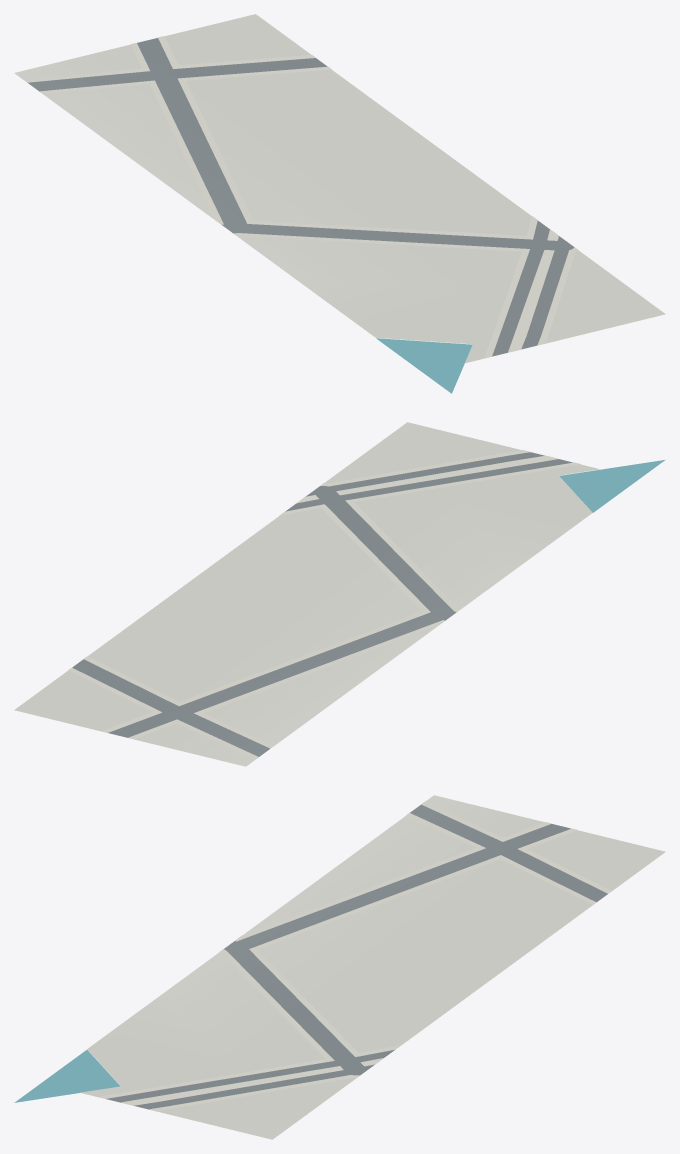
The picture shows the model from 3 angles, top to bottom: view 1: azimuth 30°, elevation 25°; view 2: azimuth 150°, elevation 25°; view 3: azimuth 330°, elevation 25°; orthographic projection. The views are drawn at different scales.
Visible parts, largest first — view 1: city; view 2: city; view 3: city.
Boxes of the visible parts, x1=… form: city: x1=14, y1=14, x2=665, y2=393; city: x1=14, y1=422, x2=665, y2=766; city: x1=14, y1=795, x2=665, y2=1139.
Bounding box in the file's own units: 120 × 0.4 × 376.
